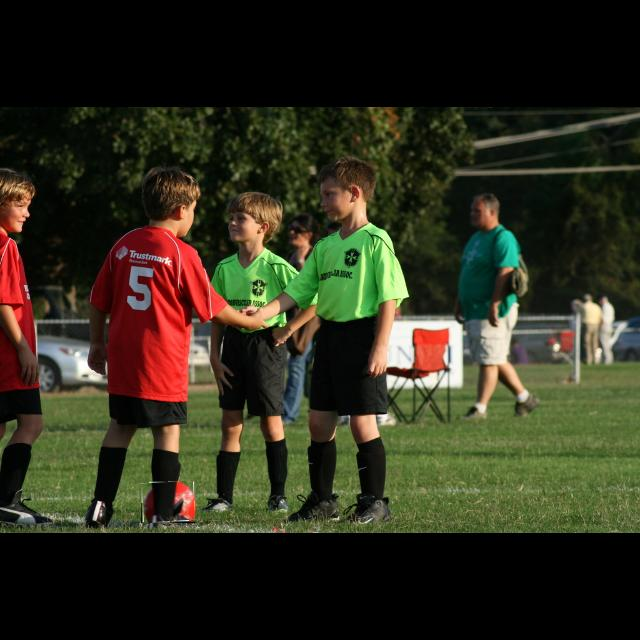Football: (141, 481, 195, 523)
